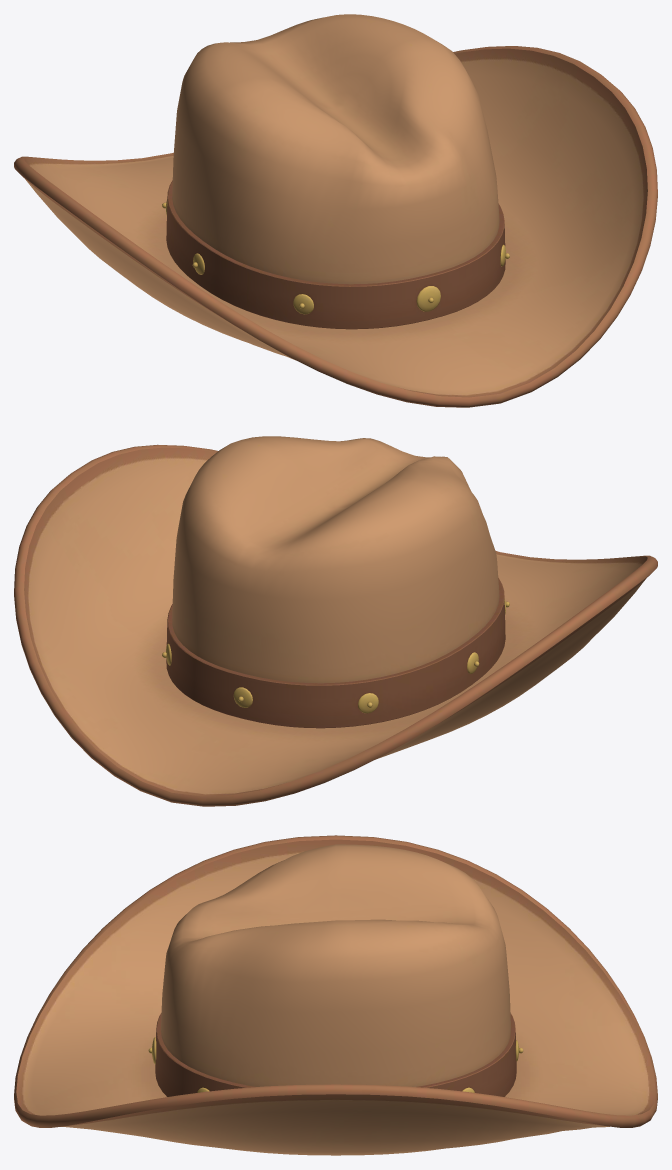
Rendered from cowboy-hat.glb.
The picture shows the model from 3 angles, top to bottom: view 1: azimuth 30°, elevation 25°; view 2: azimuth 150°, elevation 25°; view 3: azimuth 270°, elevation 25°; orthographic projection. The views are drawn at different scales.
Visible parts, largest first — view 1: cowboy-hat_body; view 2: cowboy-hat_body; view 3: cowboy-hat_body.
Part boxes in pixels (x1,y1,x2,y2): cowboy-hat_body: (14,14,657,407); cowboy-hat_body: (14,436,657,806); cowboy-hat_body: (14,835,657,1155).
Size of the model in its own units: 0.3794 by 0.1491 by 0.4061.
1 material, 1 textured.
